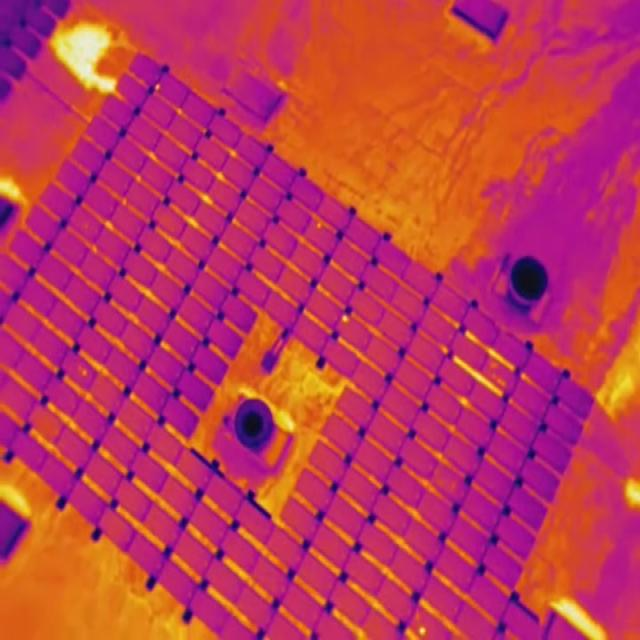Orange-Spots: (497, 377, 505, 387), (419, 626, 427, 636), (490, 361, 498, 369), (82, 369, 88, 377), (342, 314, 348, 322), (316, 222, 322, 229), (438, 479, 444, 486), (450, 481, 455, 489), (155, 84, 160, 90), (84, 223, 88, 230), (492, 372, 496, 379), (78, 366, 82, 372)
